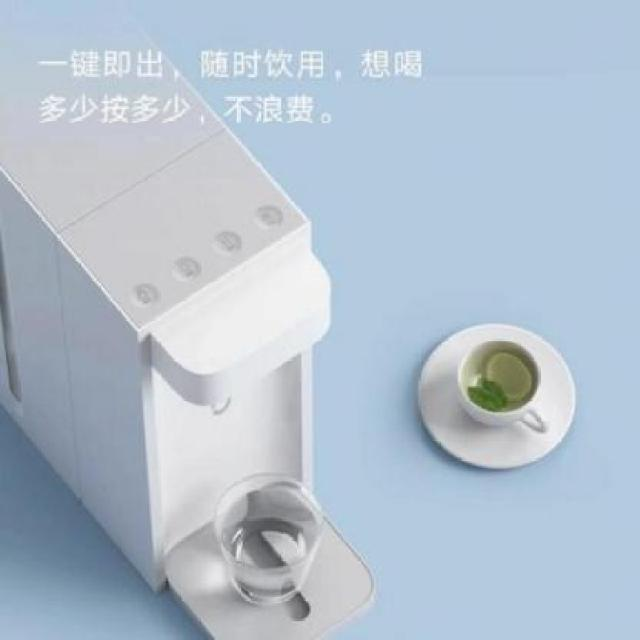cooler: (0, 72, 378, 640)
